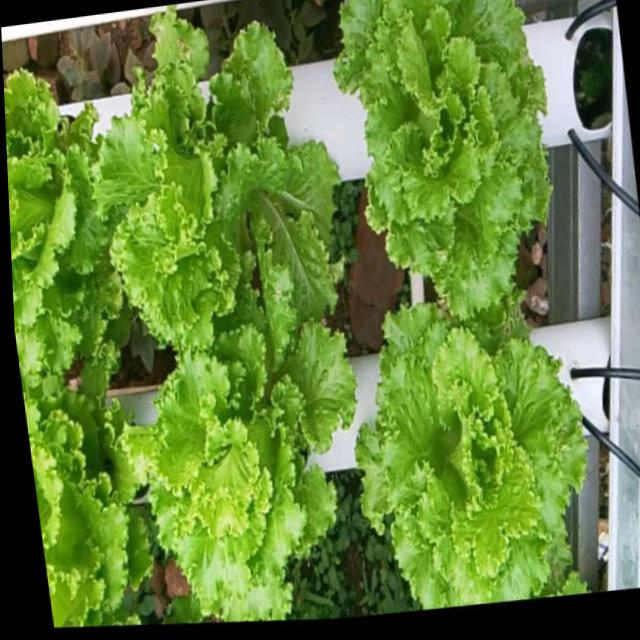Mature: (94, 9, 338, 348), (352, 303, 586, 610), (132, 299, 353, 621), (332, 0, 549, 320), (4, 67, 118, 370), (21, 375, 149, 626)
